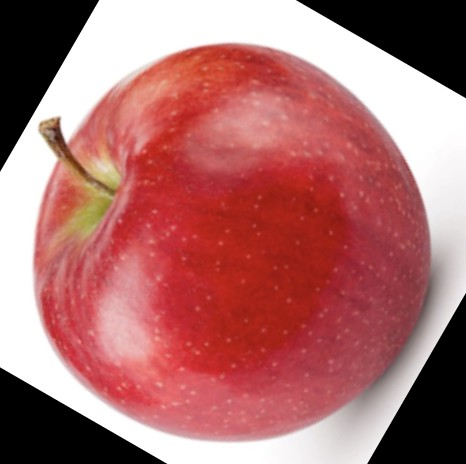fresh_apple: (32, 46, 433, 442)
